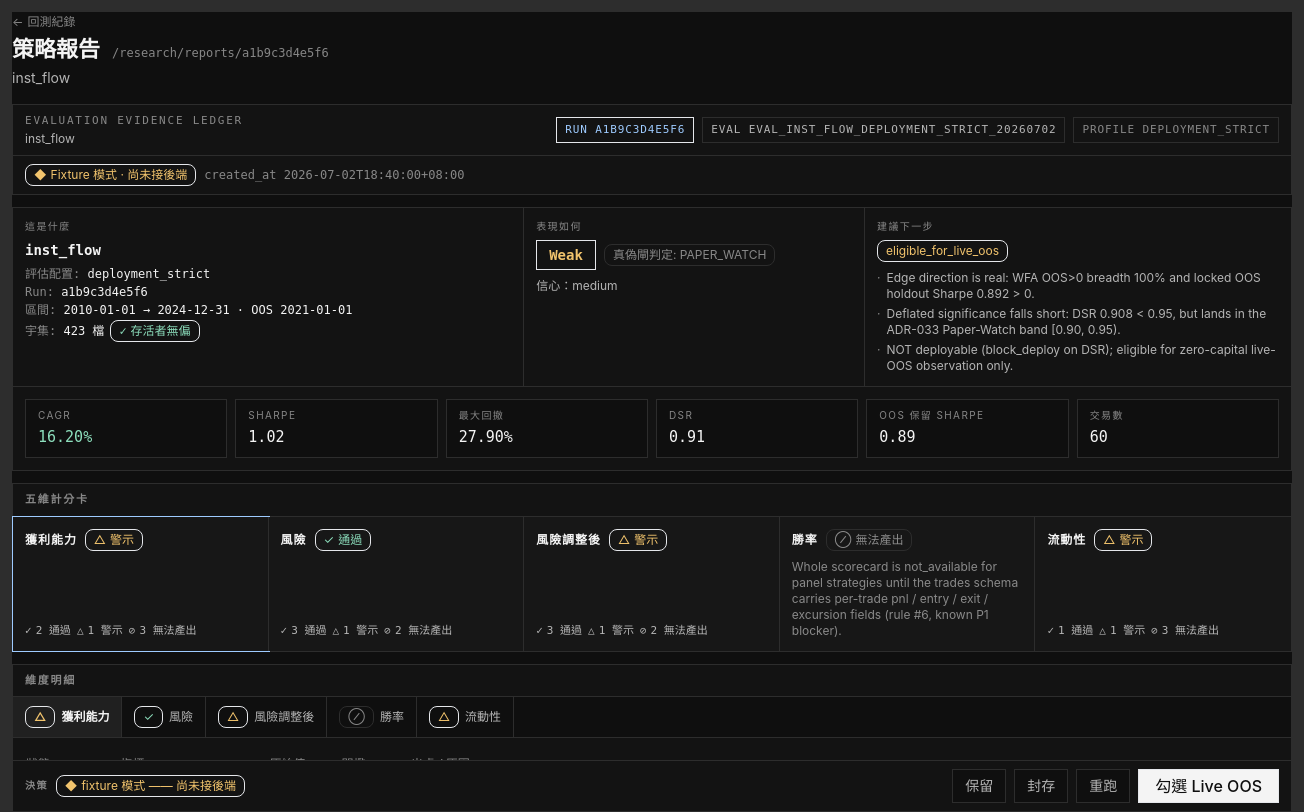
Test: ReportViewerPage · fixture mode › renders the decision action bar with the fixture badge and marks optimistically
Check: the button with test id "decision-archive" is shown, box [1014,769,1068,803]
Check: the button with test id "decision-rerun" is shown, box [1076,769,1130,803]
# 樂觀更新：點 Keep → 本地標記 badge
What coordinates should you click on to do the following:
click the button with test id "decision-keep"
I would click on:
 (979, 786)
Its box is [952,769,1006,803].
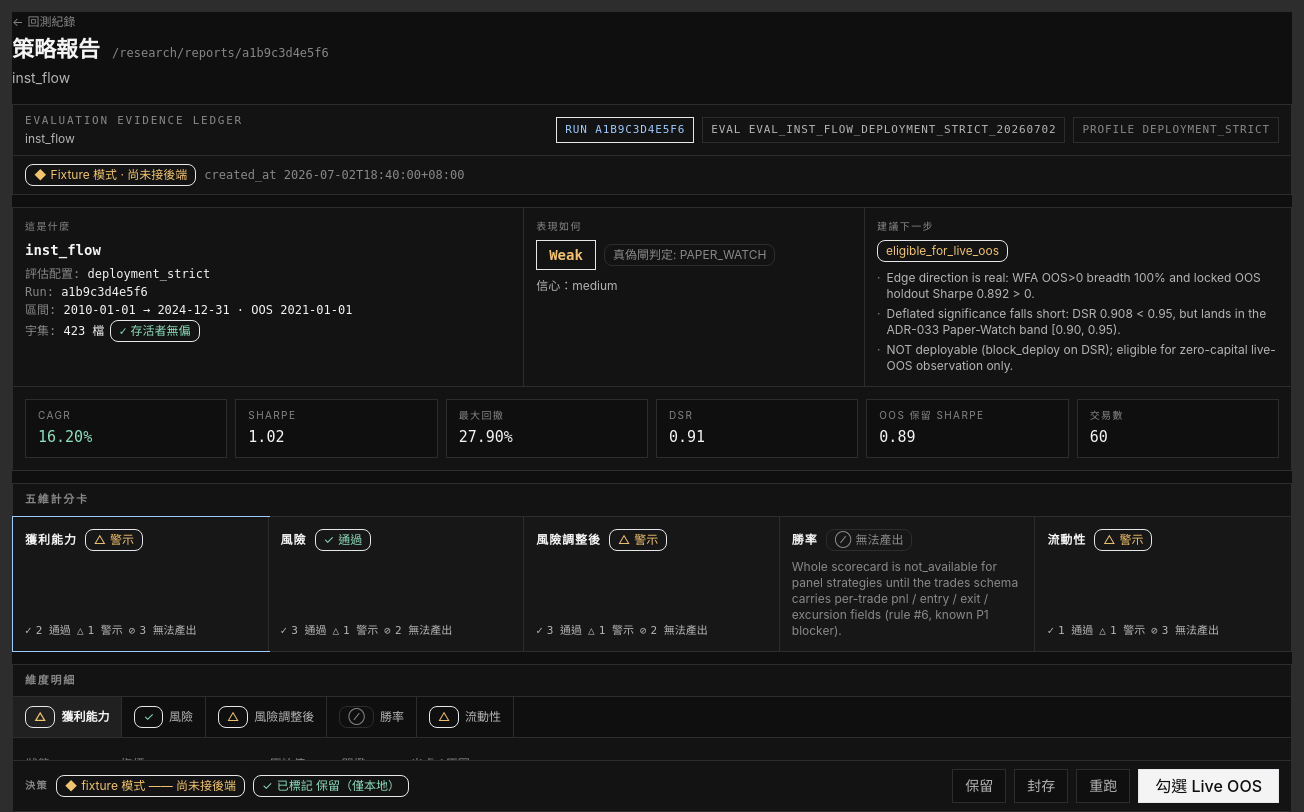
Check: the text "✓ 已標記 保留（僅本地）" is shown, box [253,775,409,797]
